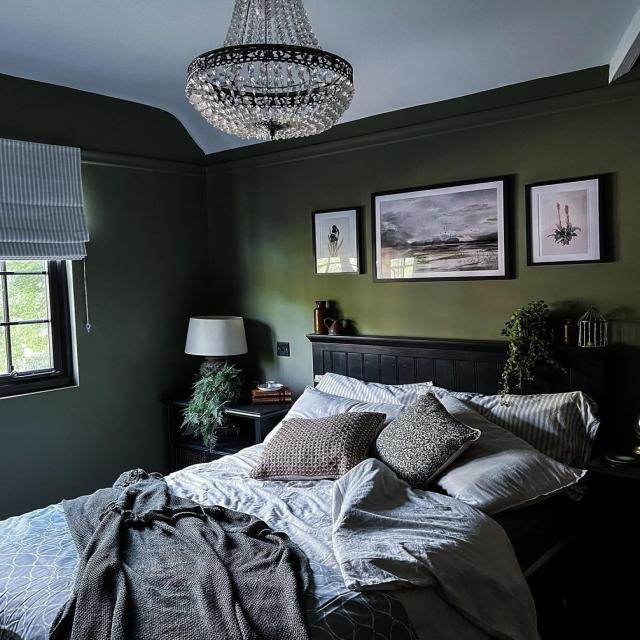bed: (0, 331, 600, 638)
